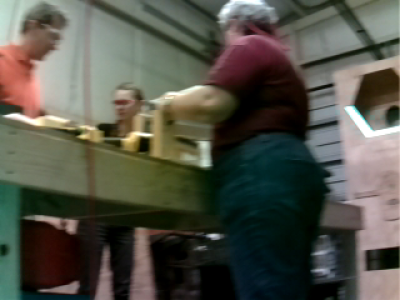target: (344, 104, 400, 139)
